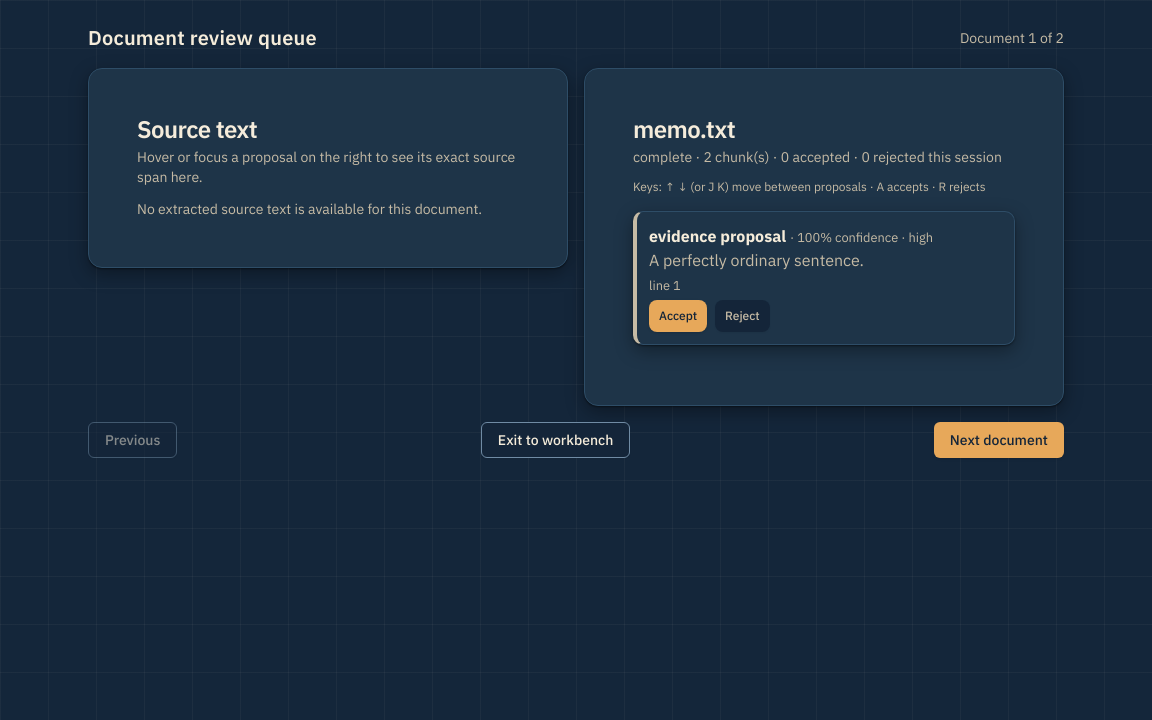
Test: Document review queue: issues and clarifying questions › paginates Next across documents and reaches a final summary with running totals
Expected: the text "Document 1 of 2" is shown, [960,28,1064,48]
Click the button "Next document" at coordinates (999, 440), box [934,422,1064,458]
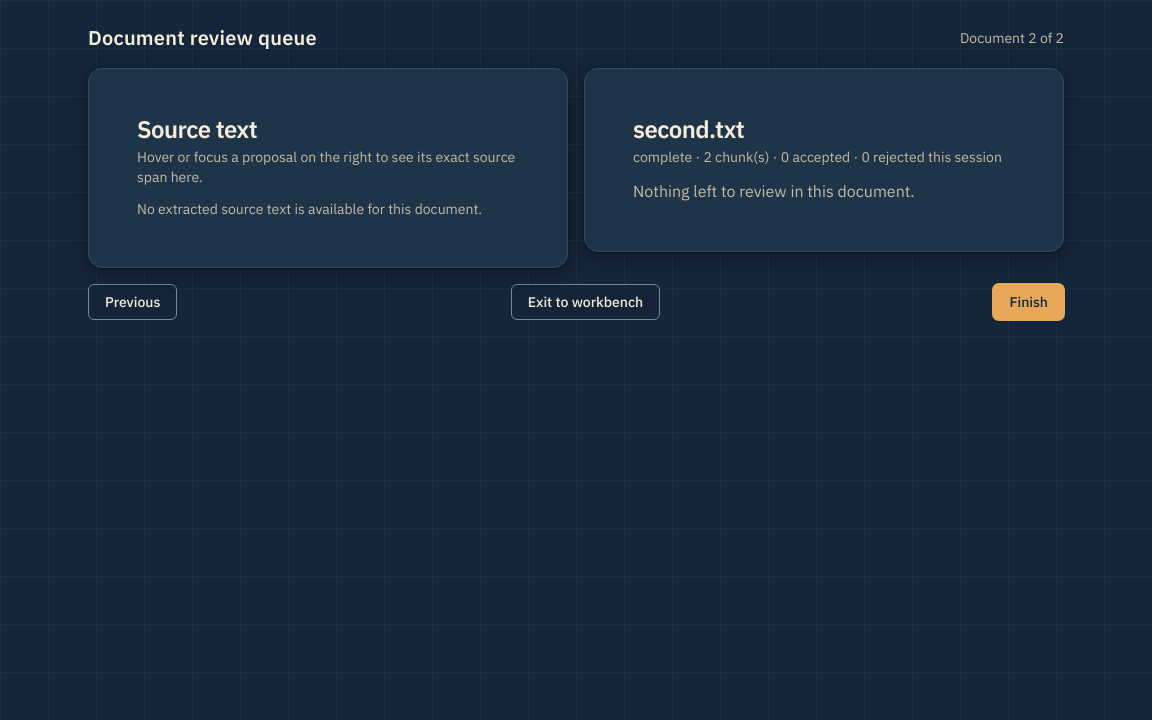
Result: the heading "second.txt" is shown at [633,113,744,145]
Result: the text "Document 2 of 2" is shown at [960,28,1064,48]
Click the button "Finish" at coordinates (1029, 302), box [993,284,1064,320]
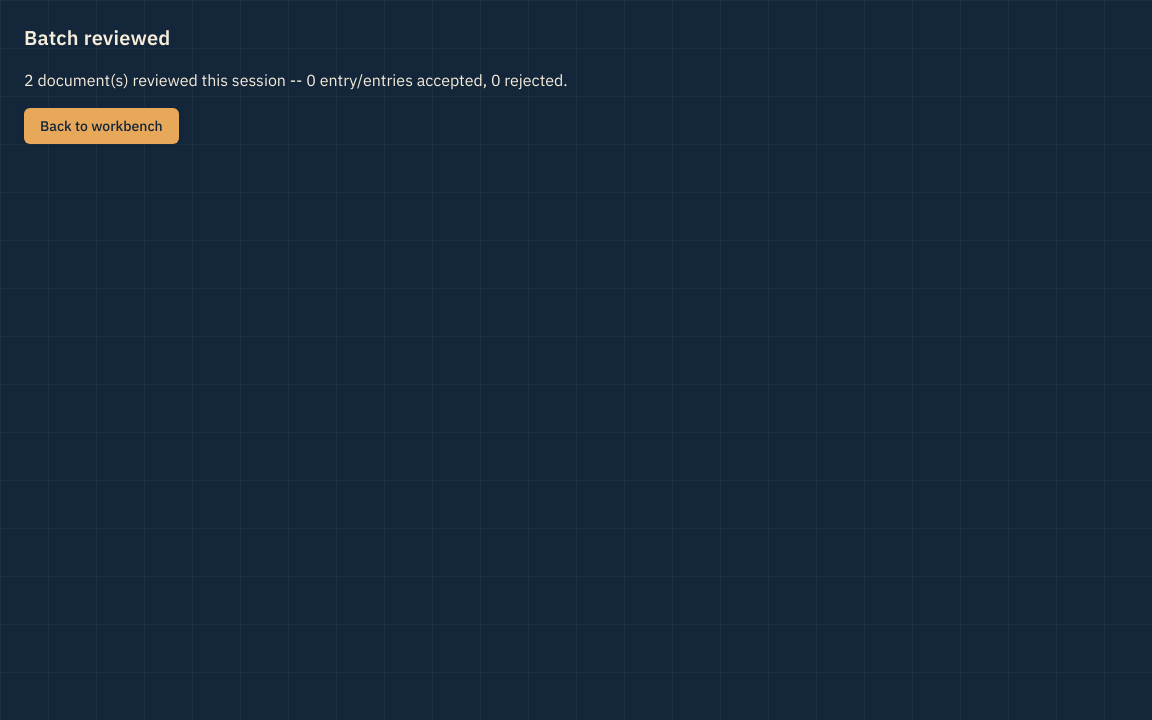
Result: the element with test id "review-summary" is shown at [24,24,568,144]
Result: the text "2 document(s) reviewed this session" is shown at [24,70,568,90]
